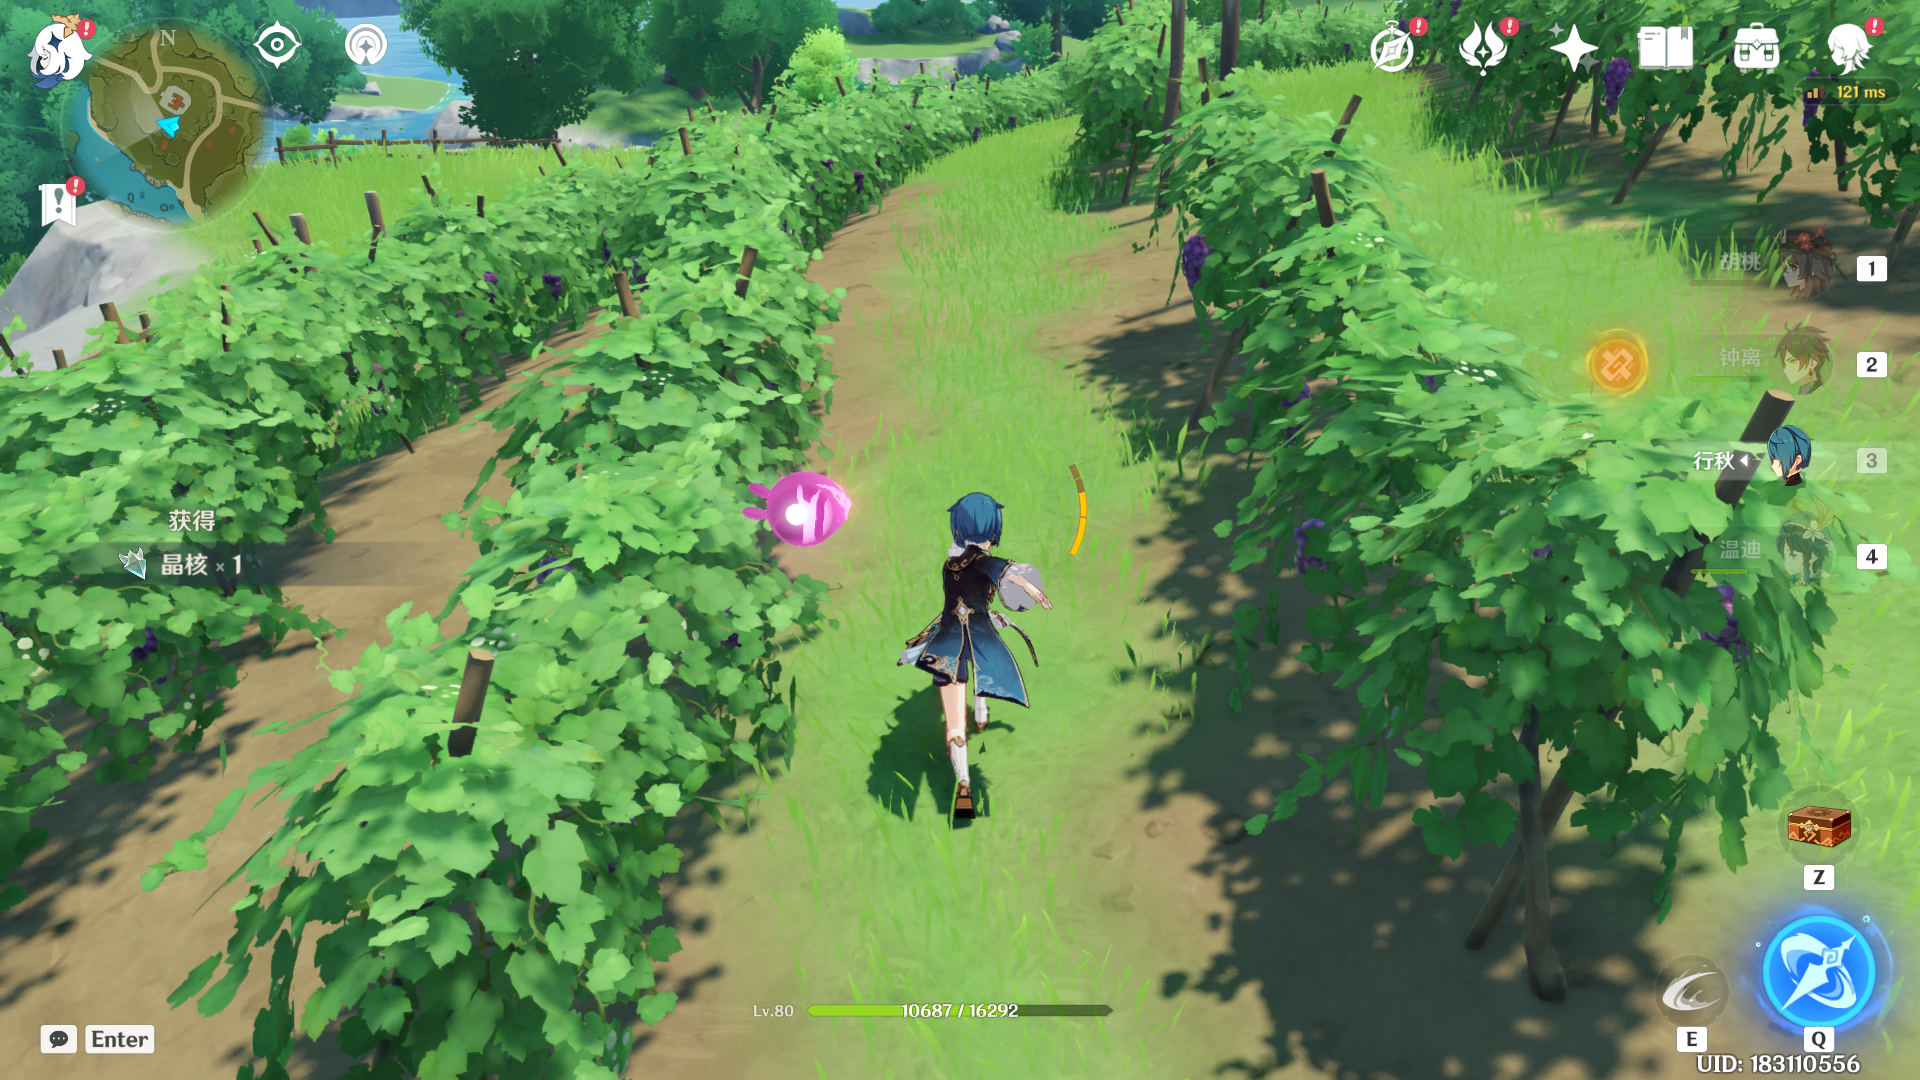character: (843, 463, 1113, 849)
